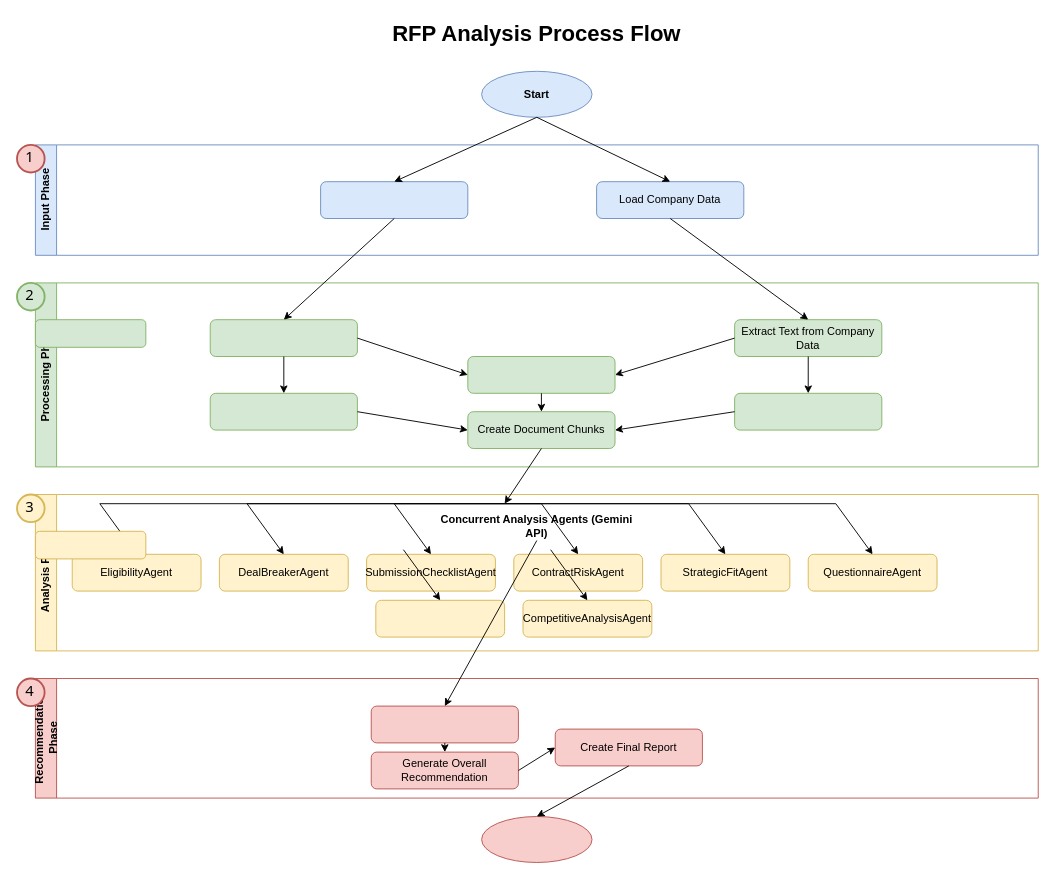
Some shapes in this 1054 by 879 pixel diagram are drawn without their labels. The centre of each missing label's shape, as x and y in pixels:
"Compile Analysis Results" belongs at [444,724].
"End" belongs at [536,839].
"Extract Key Information (Ollama)" belongs at [541,374].
"Extract Text from RFP" belongs at [283,337].
"Gemini API" belongs at [90,544].
"Load RFP Document" belongs at [394,199].
"Local Ollama LLM" belongs at [90,333].
"ProposalOutlineAgent" belongs at [440,618].
"Summarize Company Data (Ollama)" belongs at [808,411].
"Summarize RFP (Ollama)" belongs at [283,411].
